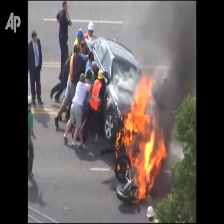fire_h: (122, 71, 167, 202)
fire_l: (115, 131, 120, 157), (126, 162, 130, 168), (117, 164, 120, 170)
